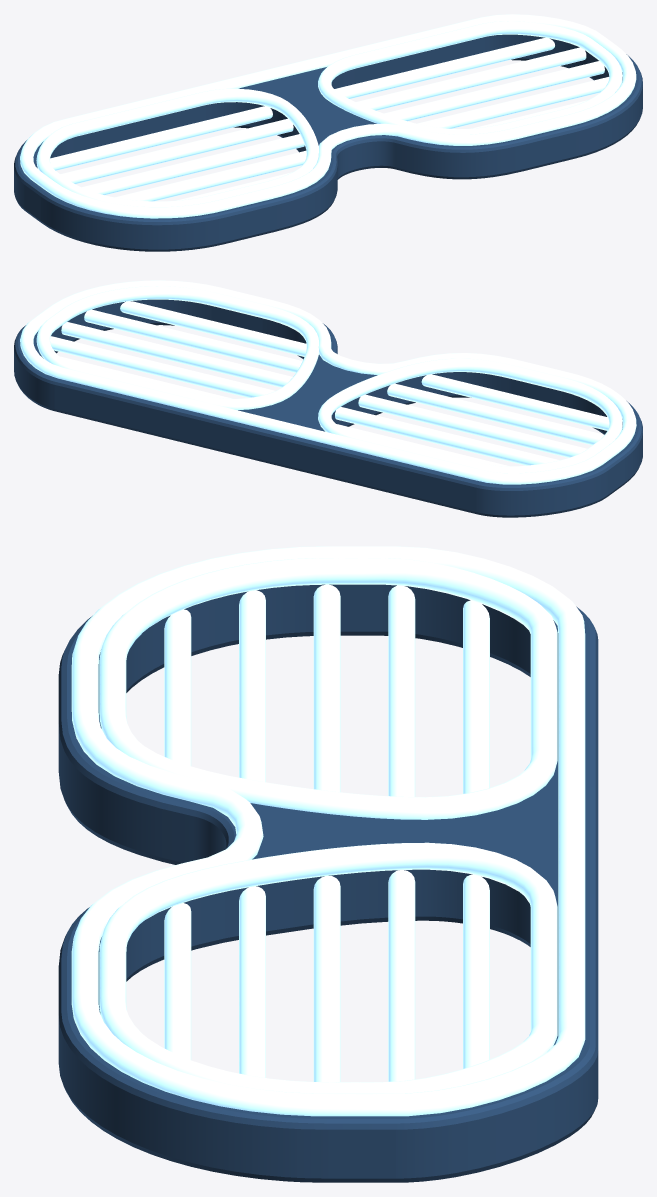
File: Sunglasses.fbx
The picture shows the model from 3 angles, top to bottom: view 1: azimuth 30°, elevation 25°; view 2: azimuth 150°, elevation 25°; view 3: azimuth 270°, elevation 25°; orthographic projection. The views are drawn at different scales.
Parts seen in each view (by area): view 1: Sunglasses; view 2: Sunglasses; view 3: Sunglasses.
Boxes of the visible parts, left/top/right/bottom form: Sunglasses: left=14, top=14, right=642, bottom=251; Sunglasses: left=14, top=280, right=642, bottom=517; Sunglasses: left=58, top=546, right=598, bottom=1182.
Bounding box in the file's own units: 275 × 17.98 × 110.
